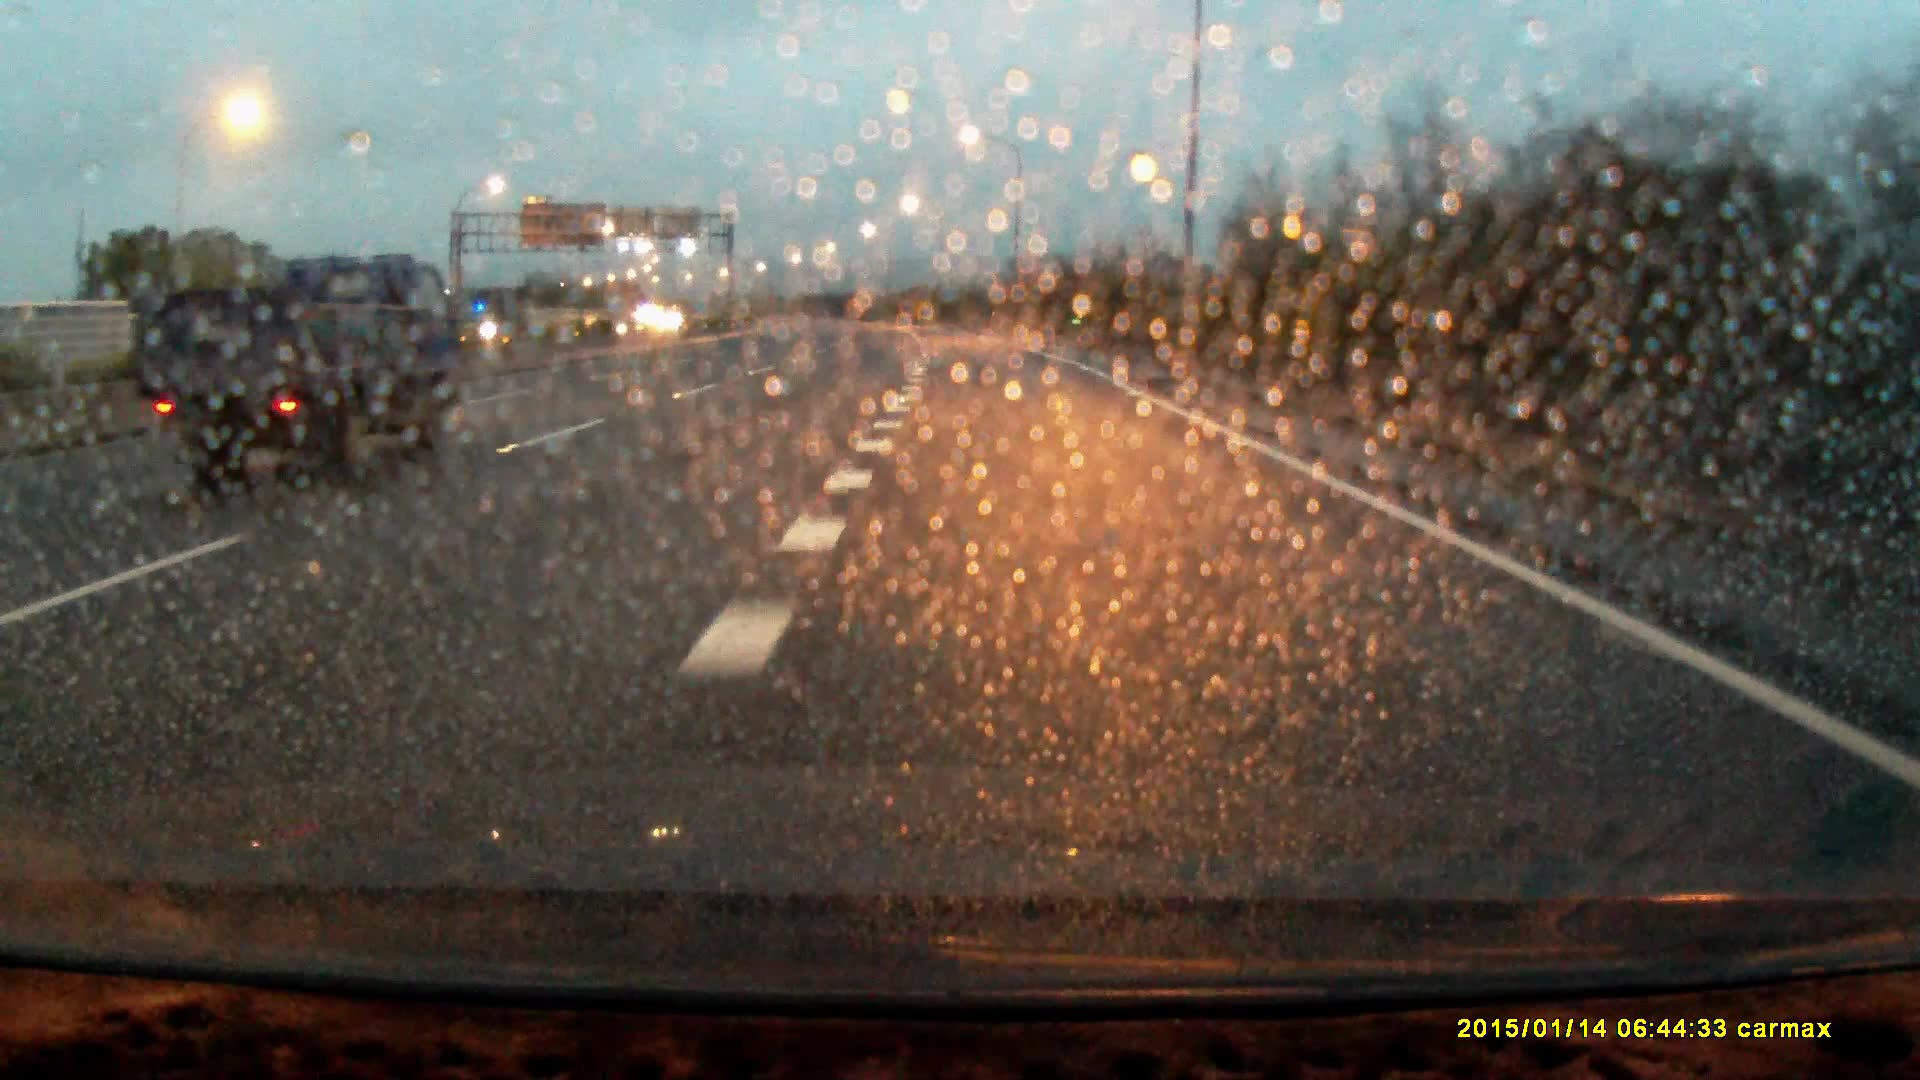vehicle: (148, 231, 444, 476)
